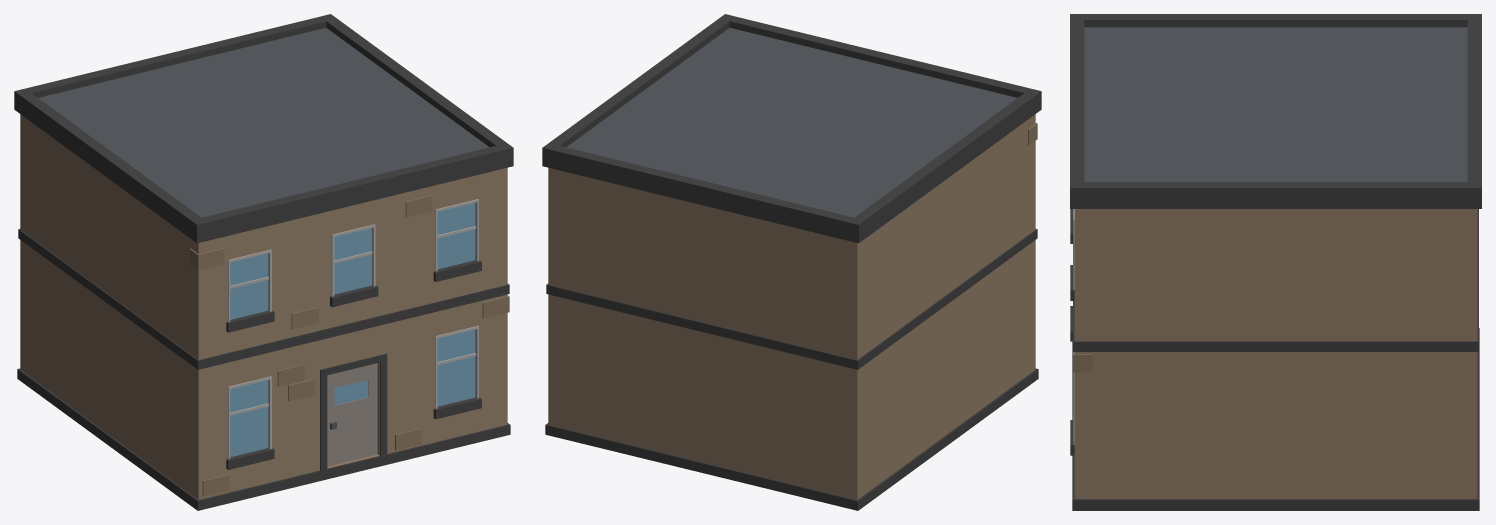
The model's file is House_09.fbx.
3 renders of one model, left to right at view 1: azimuth 30°, elevation 25°; view 2: azimuth 150°, elevation 25°; view 3: azimuth 270°, elevation 25°, orthographic. The views are drawn at different scales.
Parts seen in each view (by area): view 1: House_09; view 2: House_09; view 3: House_09.
Boxes of the visible parts, bbox=[...] form: House_09: bbox=[14, 14, 513, 510]; House_09: bbox=[542, 14, 1041, 510]; House_09: bbox=[1070, 14, 1481, 510].
Size of the model in its own units: 14.04 by 12.18 by 14.04.
